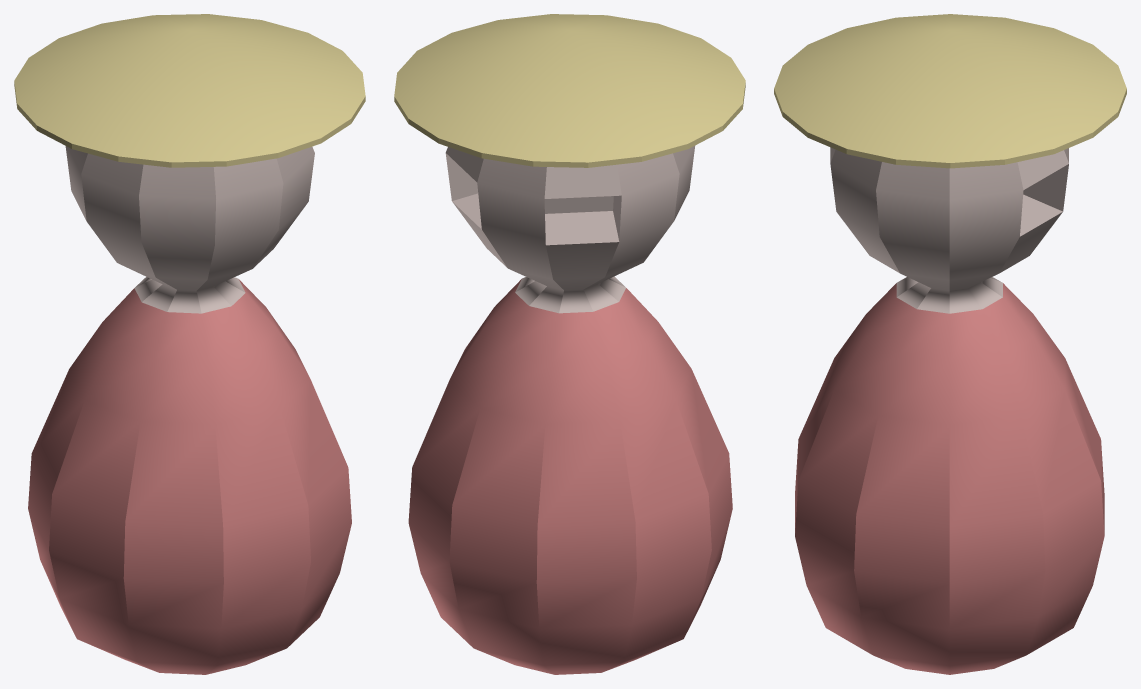
The model's file is chino.fbx.
The picture shows the model from 3 angles, left to right: view 1: azimuth 30°, elevation 25°; view 2: azimuth 150°, elevation 25°; view 3: azimuth 270°, elevation 25°; orthographic projection.
Parts seen in each view (by area): view 1: pCylinder9; view 2: pCylinder9; view 3: pCylinder9.
Part boxes in pixels (box(x1,y1,x2,y2)): pCylinder9: box(14, 14, 365, 674); pCylinder9: box(394, 14, 745, 674); pCylinder9: box(774, 14, 1126, 674).
Bounding box in the file's own units: 3.95 × 7.77 × 3.95.
